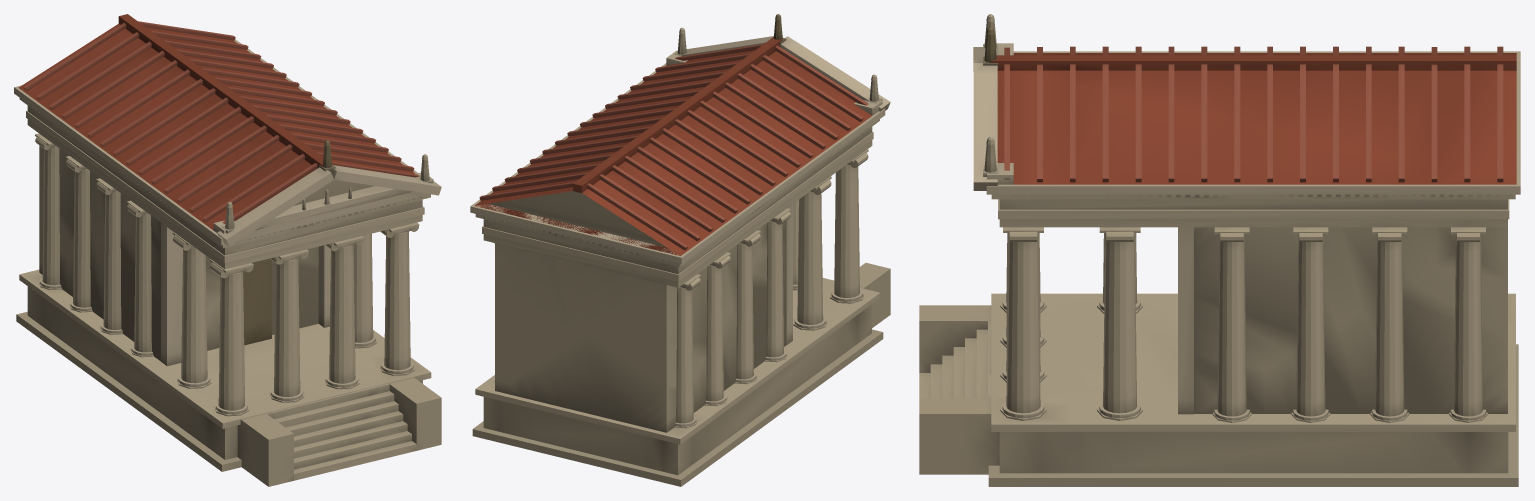
Rendered from temple-of-portunus.glb.
3 views of the same model, side by side, from view 1: azimuth 30°, elevation 25°; view 2: azimuth 150°, elevation 25°; view 3: azimuth 270°, elevation 25° (orthographic). The views are drawn at different scales.
Visible parts, largest first — view 1: p2_roof, p1_columns, p0_podium; view 2: p2_roof, p1_columns, p0_podium; view 3: p2_roof, p1_columns, p0_podium.
Boxes of the visible parts, box(x1,y1,x2,y2) form: p2_roof: box(14, 14, 441, 269); p1_columns: box(35, 133, 419, 416); p0_podium: box(16, 269, 441, 486); p2_roof: box(470, 14, 890, 287); p1_columns: box(494, 149, 868, 432); p0_podium: box(472, 262, 890, 486); p2_roof: box(973, 14, 1520, 227); p1_columns: box(1000, 227, 1507, 422); p0_podium: box(919, 293, 1518, 486).
Size of the model in its own units: 11.98 by 16.22 by 22.48.
